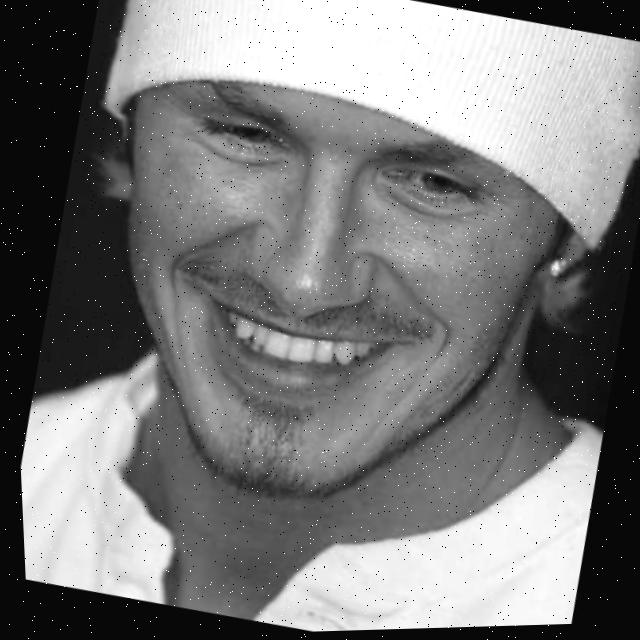face: (38, 0, 604, 558)
